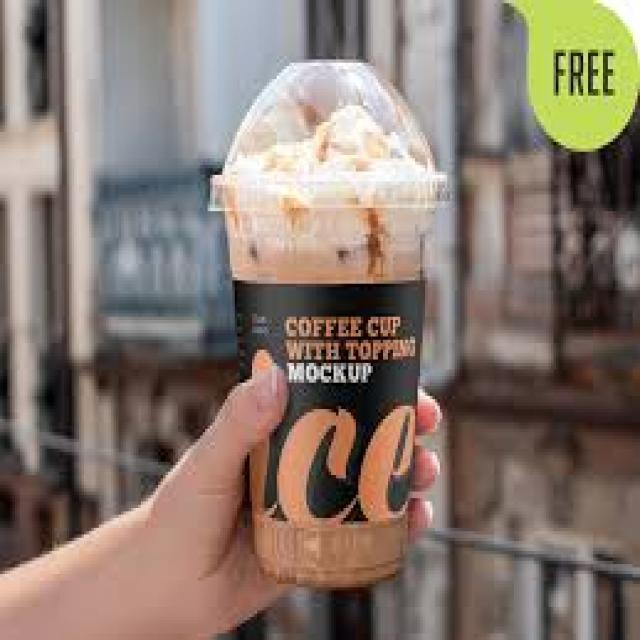bottle: (227, 210, 437, 587)
